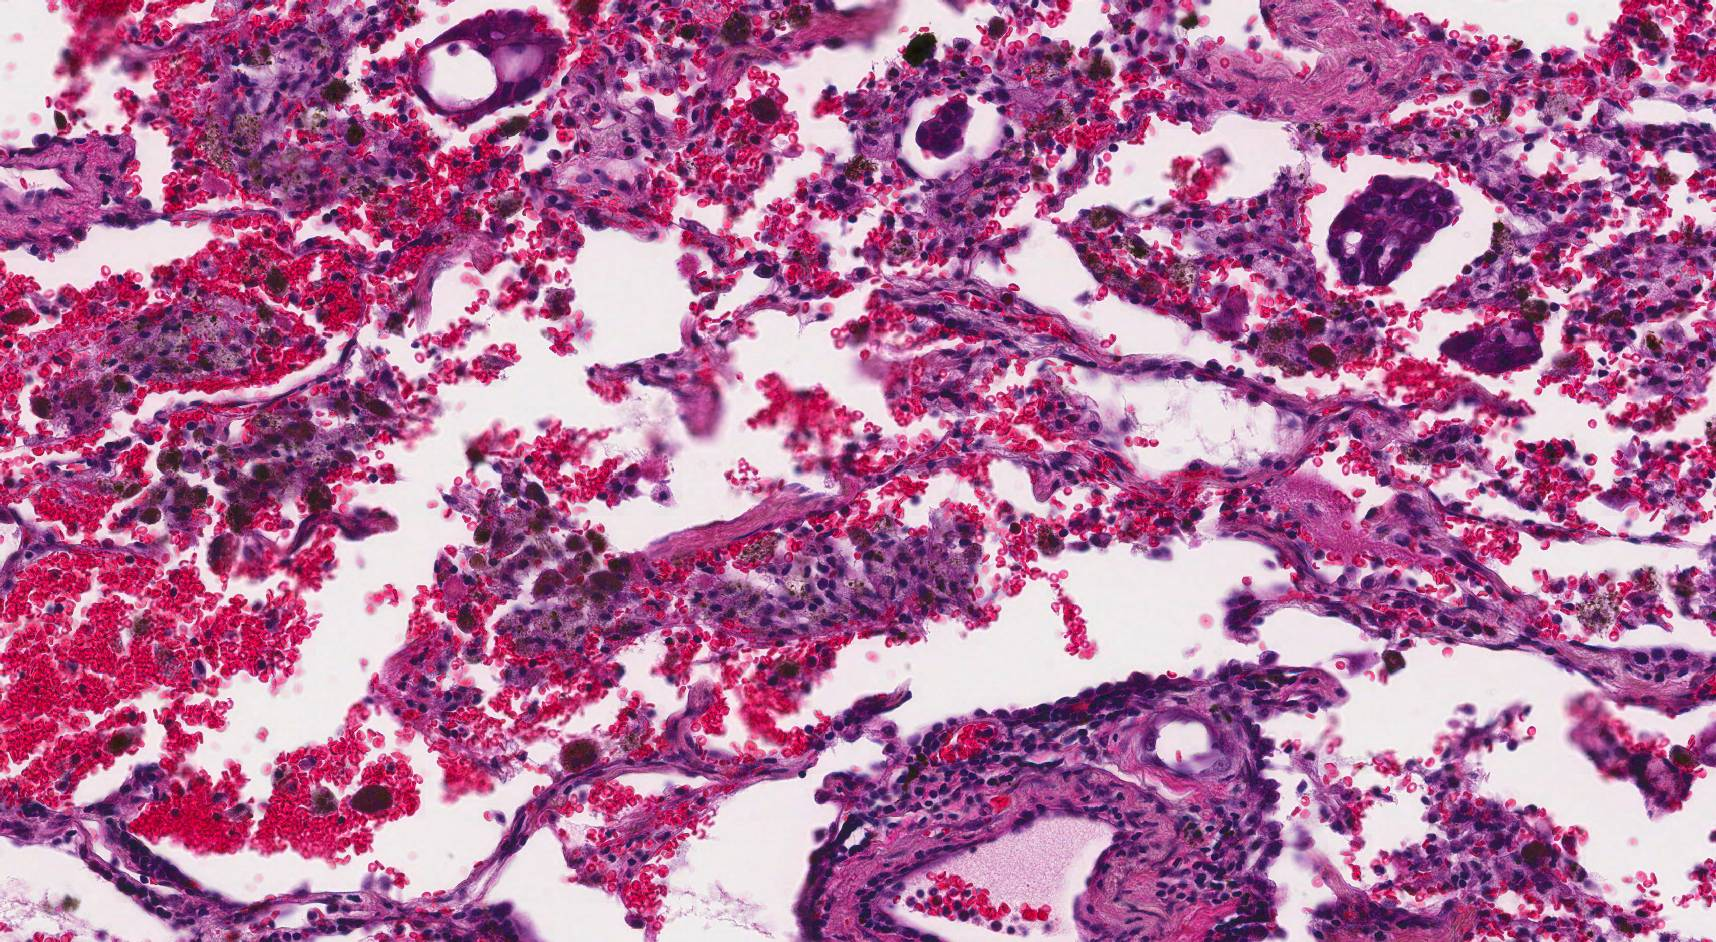stas: (411, 12, 561, 124), (1328, 177, 1461, 287), (916, 100, 974, 157)
